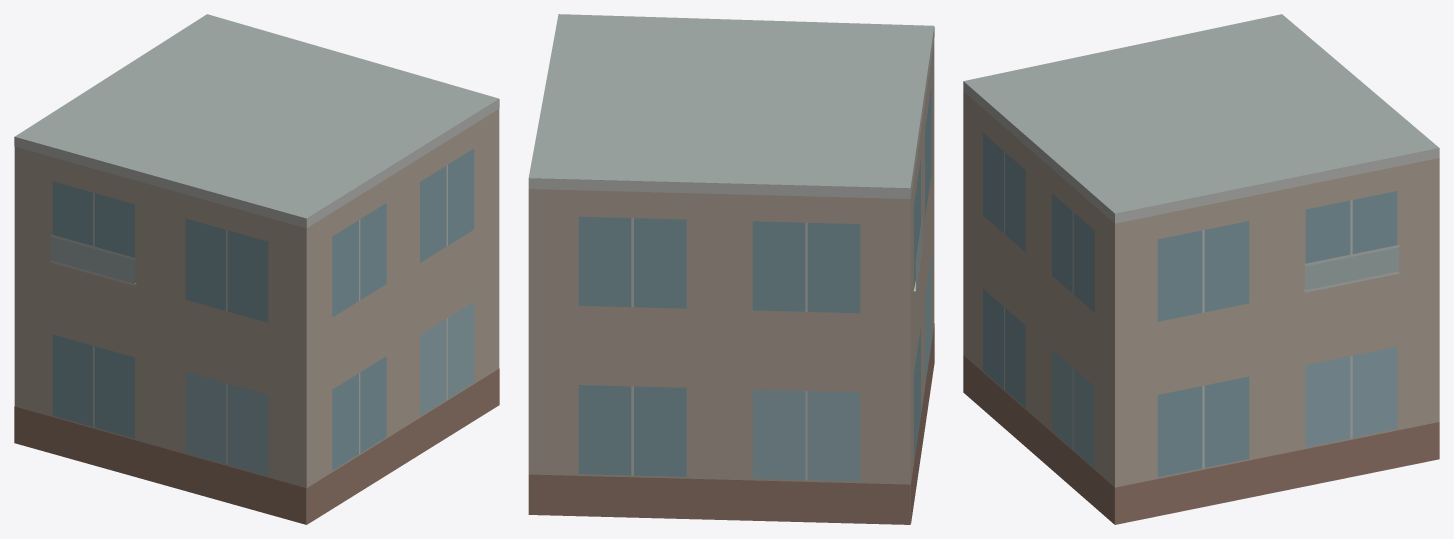
The model's file is survey-upis-32595955.glb.
3 renders of one model, left to right at view 1: azimuth 30°, elevation 25°; view 2: azimuth 150°, elevation 25°; view 3: azimuth 270°, elevation 25°, orthographic. The views are drawn at different scales.
Parts seen in each view (by area): view 1: survey-upis-32595955.tmp; view 2: survey-upis-32595955.tmp; view 3: survey-upis-32595955.tmp.
Part boxes in pixels (x1,y1,x2,y2): survey-upis-32595955.tmp: (14, 14, 499, 524); survey-upis-32595955.tmp: (528, 14, 934, 524); survey-upis-32595955.tmp: (963, 14, 1439, 524).
Size of the model in its own units: 10.47 by 7.6 by 10.55.
